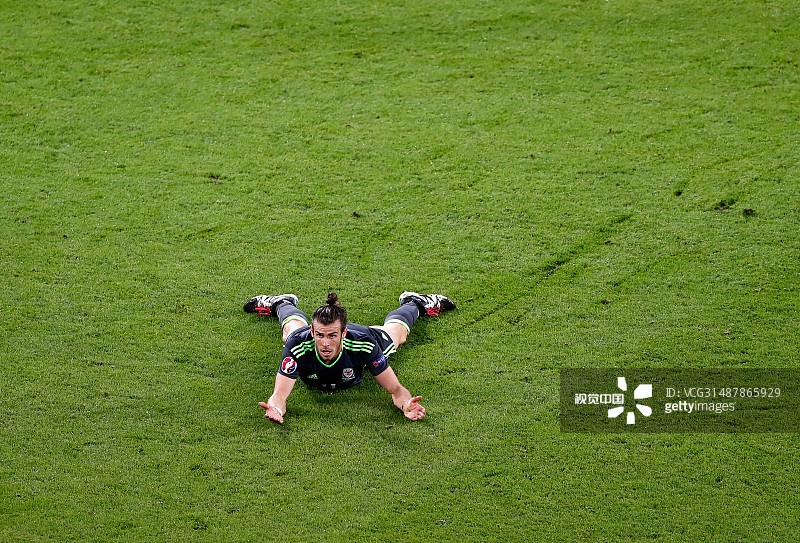falling: (231, 276, 460, 426)
